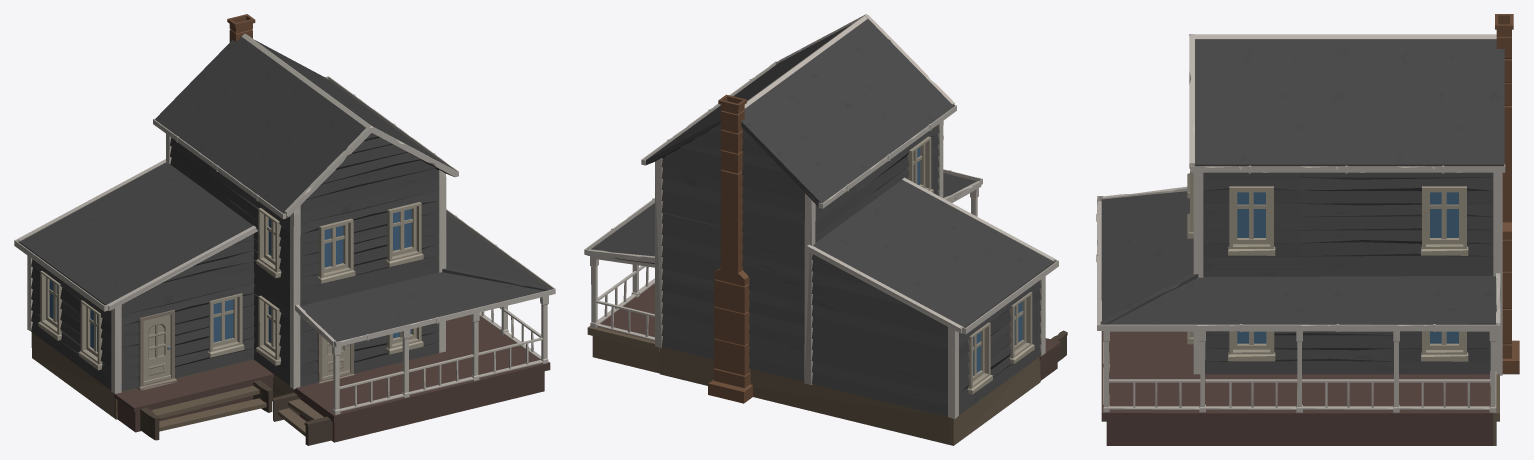
Rendered from Farm House.fbx.
3 views of the same model, side by side, from view 1: azimuth 30°, elevation 25°; view 2: azimuth 150°, elevation 25°; view 3: azimuth 270°, elevation 25° (orthographic). The views are drawn at different scales.
Parts seen in each view (by area): view 1: Farm_House; view 2: Farm_House; view 3: Farm_House.
Part boxes in pixels (x1=…): Farm_House: x1=14, y1=14, x2=555, y2=445; Farm_House: x1=584, y1=14, x2=1067, y2=445; Farm_House: x1=1096, y1=14, x2=1519, y2=445.
Size of the model in its own units: 1344 by 982 by 1095.
